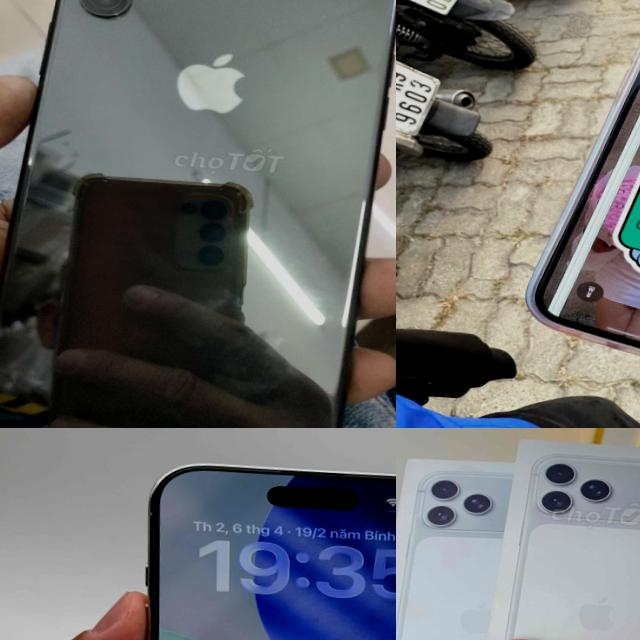gen_11: (518, 0, 640, 395)
gen_17: (108, 451, 396, 640), (490, 428, 640, 640)
gen_x_xs: (0, 0, 396, 428)
screen_defect: (548, 261, 614, 309), (554, 226, 617, 268), (584, 182, 632, 234), (610, 127, 640, 191), (538, 298, 575, 327)
